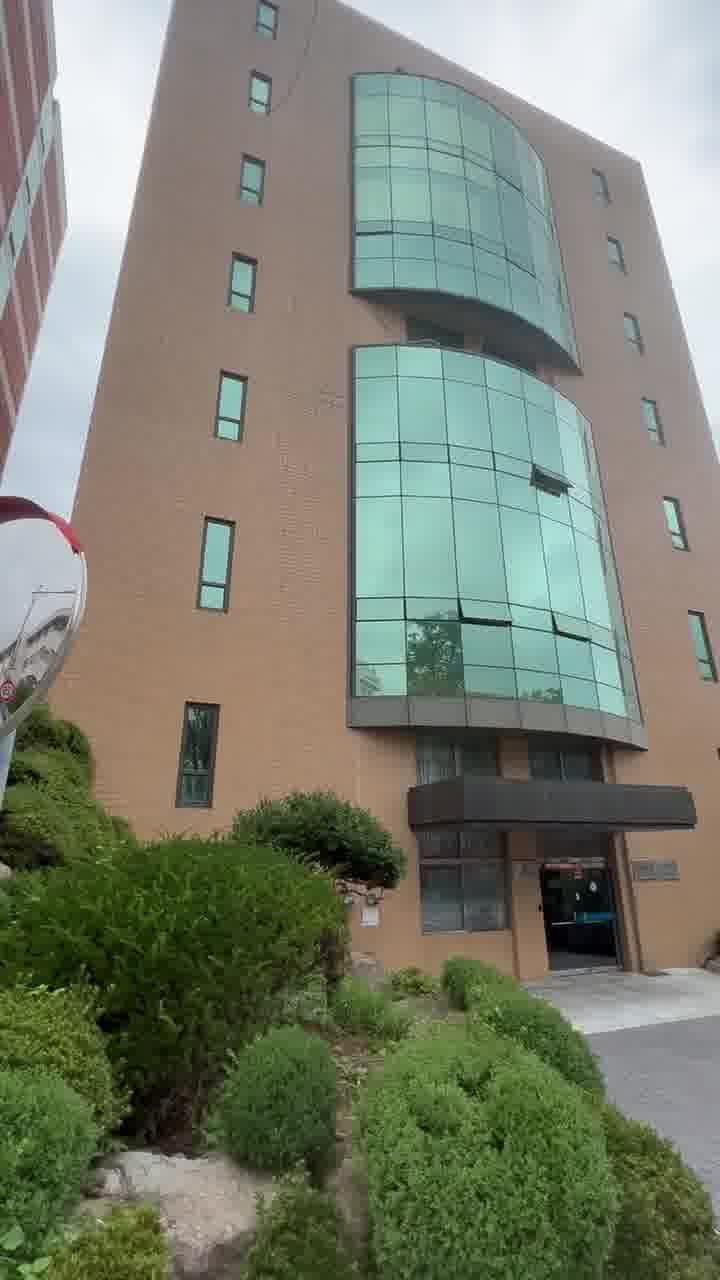building: (102, 26, 698, 816)
